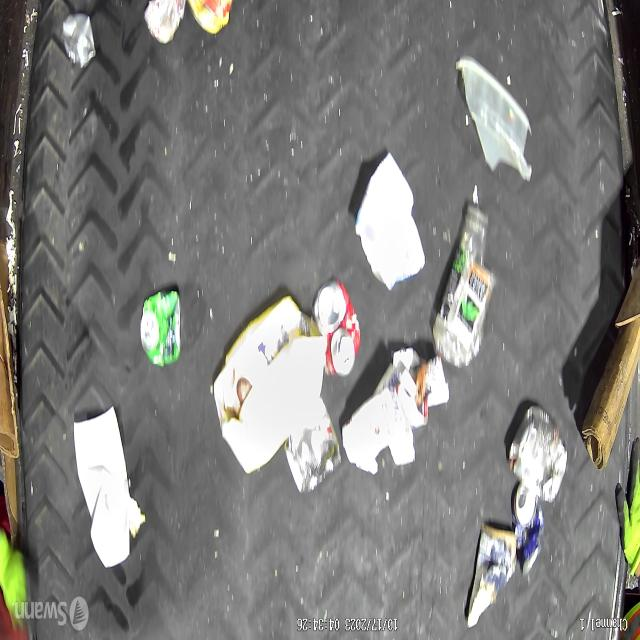can: (507, 405, 567, 503), (284, 400, 341, 496), (312, 279, 361, 377), (508, 478, 544, 578), (139, 286, 182, 368)
